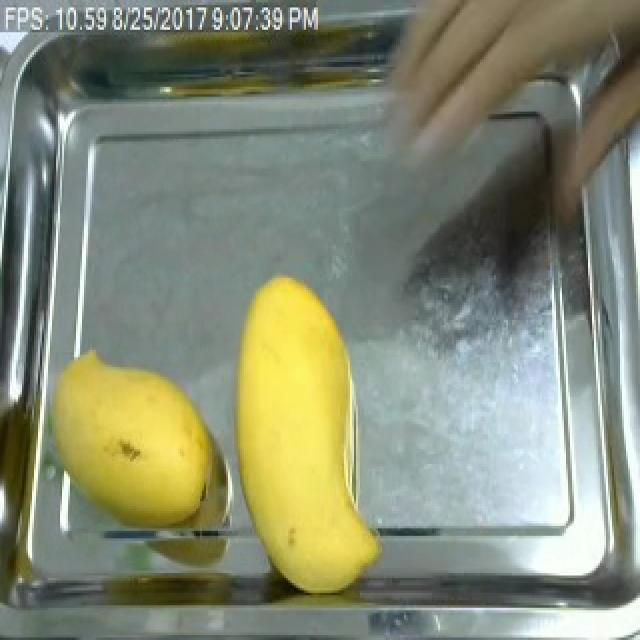fruit: (224, 265, 384, 603), (36, 352, 222, 541), (390, 0, 640, 122)
